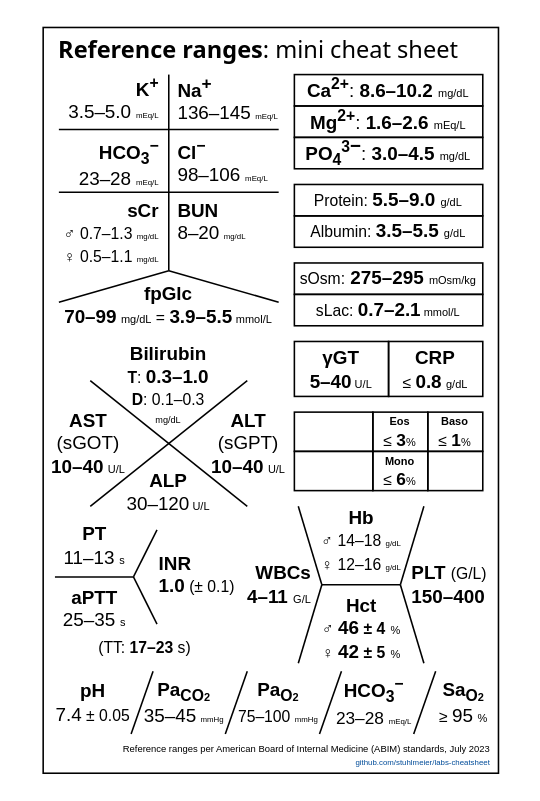
The diagram is 540 pixels wide and 801 high, and some of its shapes have lost their labels. The box of each missing label's shape, as (x1, y1, x2, y2) in pixels:
Bands ≤ 5 %: (426, 450, 483, 491)
Lymphs 30–45 %: (293, 450, 373, 491)
Segs 50–70 %: (293, 411, 373, 451)
